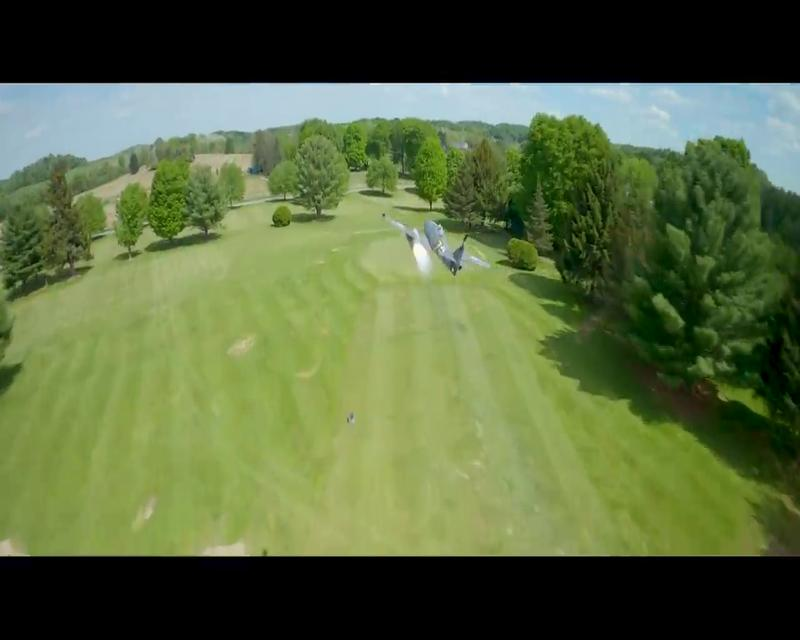UAV: (380, 211, 470, 278)
